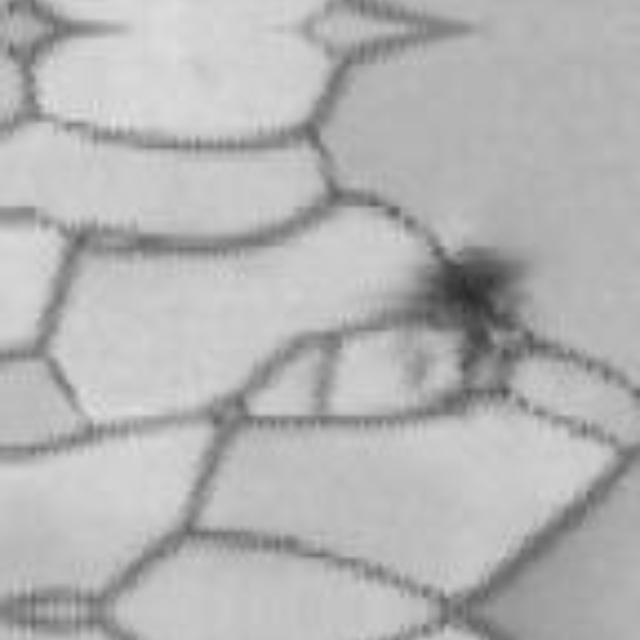good_void: (427, 242, 536, 364)
